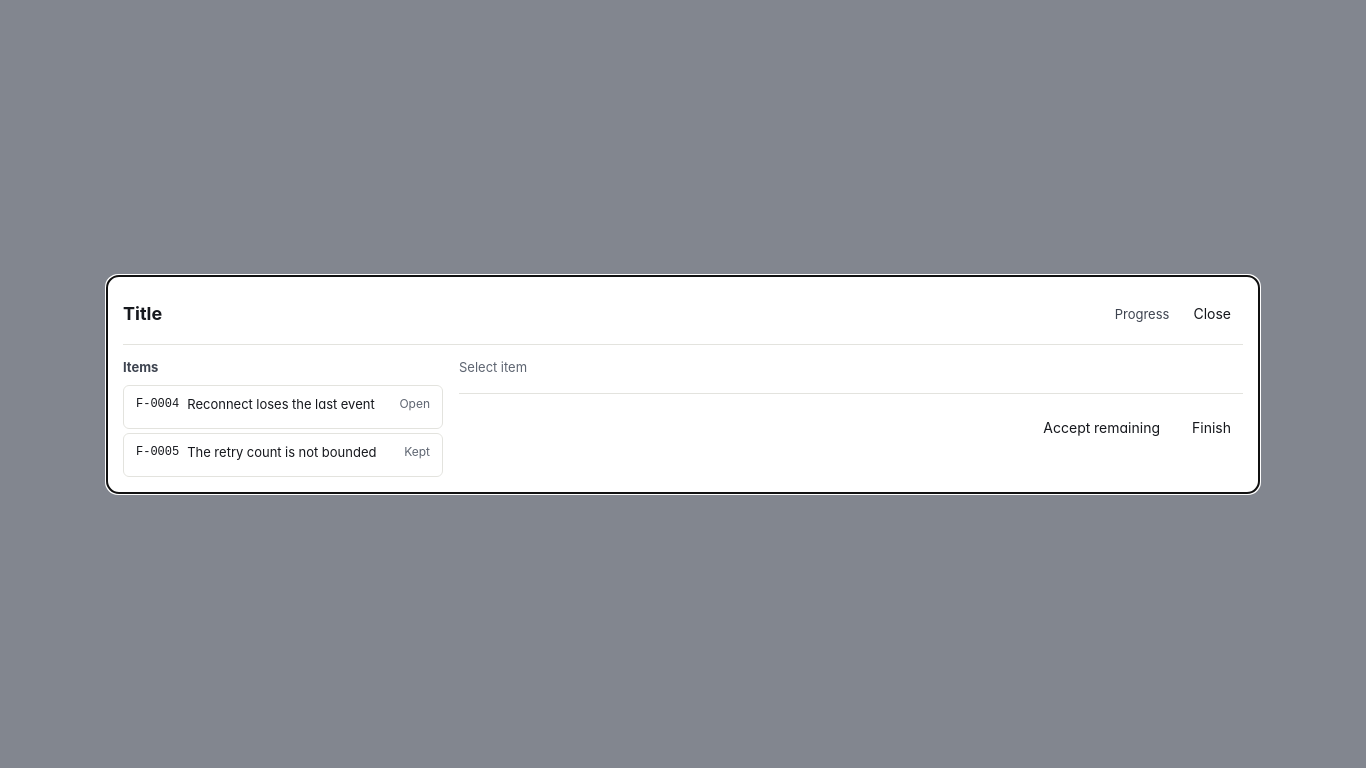
Test: FindingsReviewModal component › shows the item, its rules, origin, and proposal
Step 1. Click the button with test id "review-item-F-0004" → coordinates (283, 406), box [123, 384, 443, 428]
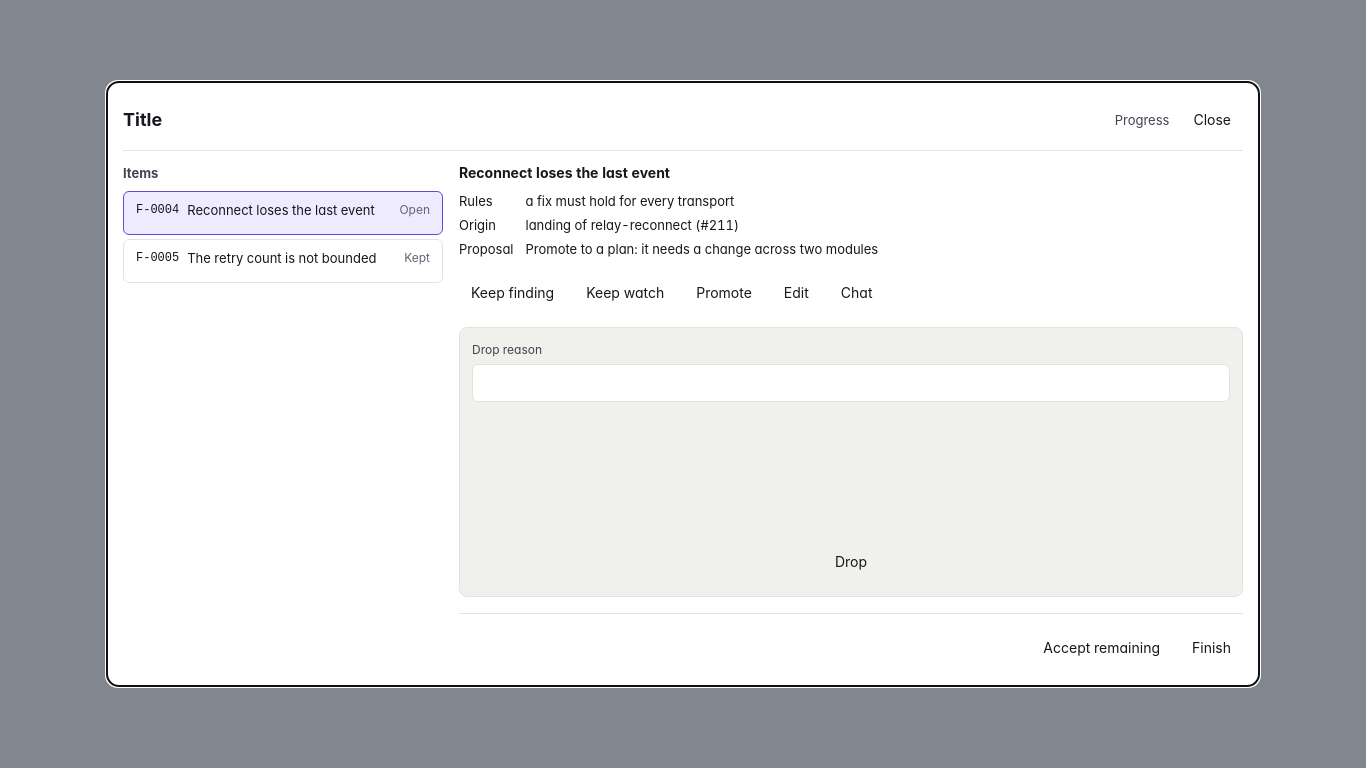
Check: the heading with test id "review-statement" reads "Reconnect loses the last event", box [459, 164, 670, 181]
Check: the element with test id "review-rules" reads "a fix must hold for every transport", box [526, 193, 734, 209]
Check: the text with test id "review-origin" reads "landing of relay-reconnect (#211)", box [526, 217, 739, 233]
